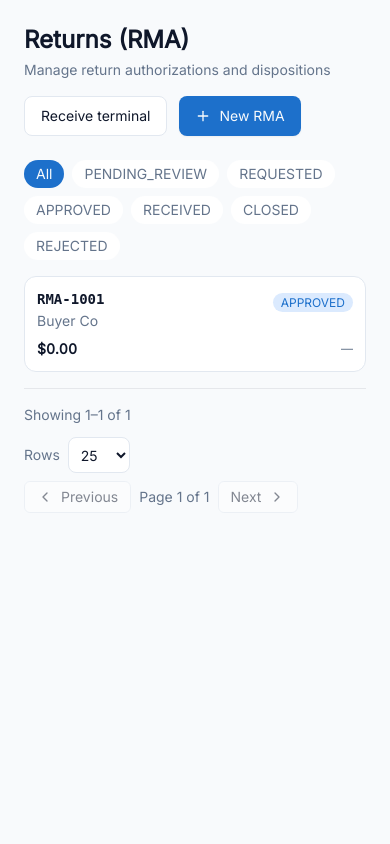
ReturnsPage RMA exceptions › blocks complete and marks the restock bin when RESTOCK has no target
Click the button "RMA-1001 Buyer Co APPROVED $0.00 —" at (71, 299), box x1=24 y1=276 x2=366 y2=372
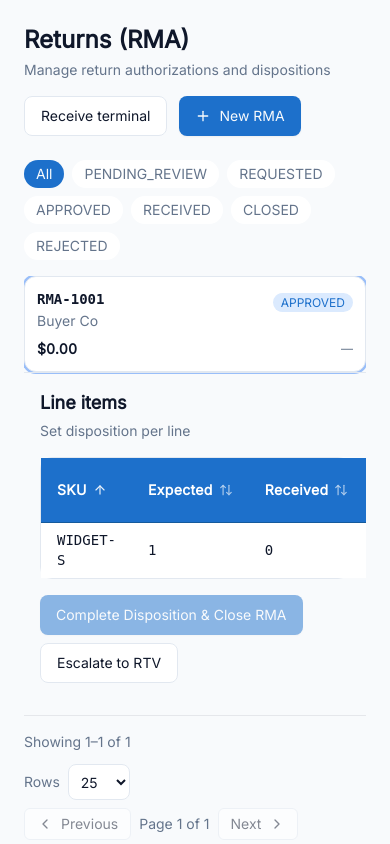
Result: the button with test id "rma-complete-disposition" is disabled at x1=40 y1=595 x2=302 y2=635
